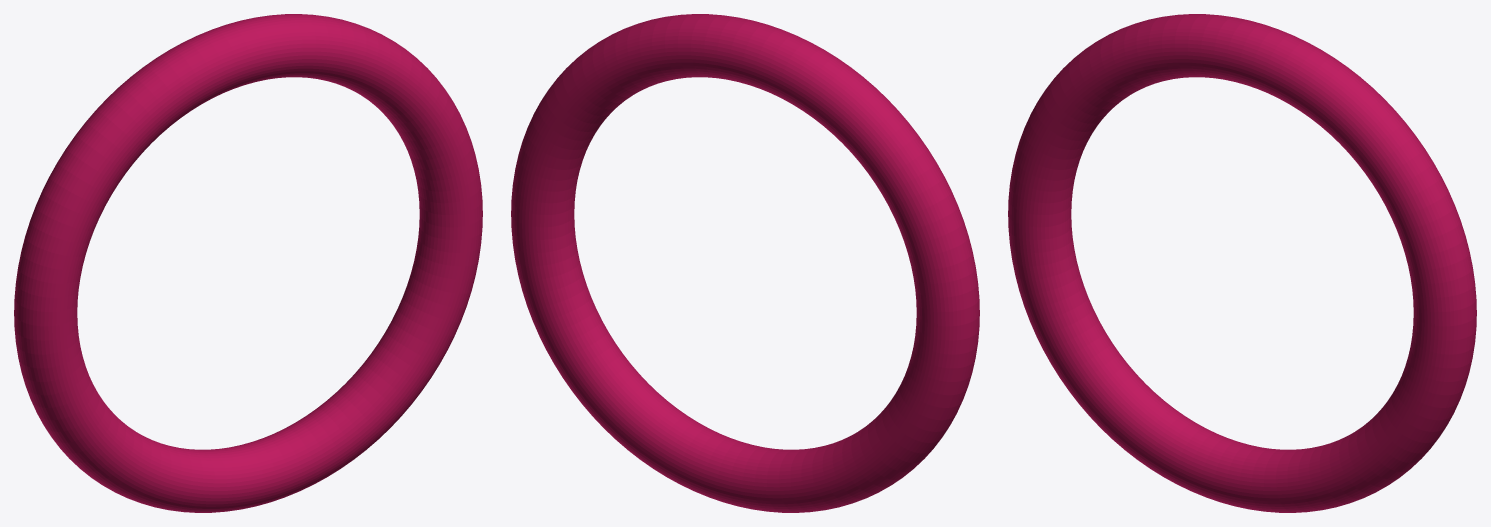
3 views of the same model, side by side, from view 1: azimuth 30°, elevation 25°; view 2: azimuth 150°, elevation 25°; view 3: azimuth 330°, elevation 25° (orthographic).
Visible parts, largest first — view 1: world; view 2: world; view 3: world.
Part boxes in pixels (x1=…): world: x1=14, y1=14, x2=482, y2=512; world: x1=511, y1=14, x2=979, y2=512; world: x1=1008, y1=14, x2=1476, y2=512.
Size of the model in its own units: 28 by 28 by 3.33.
